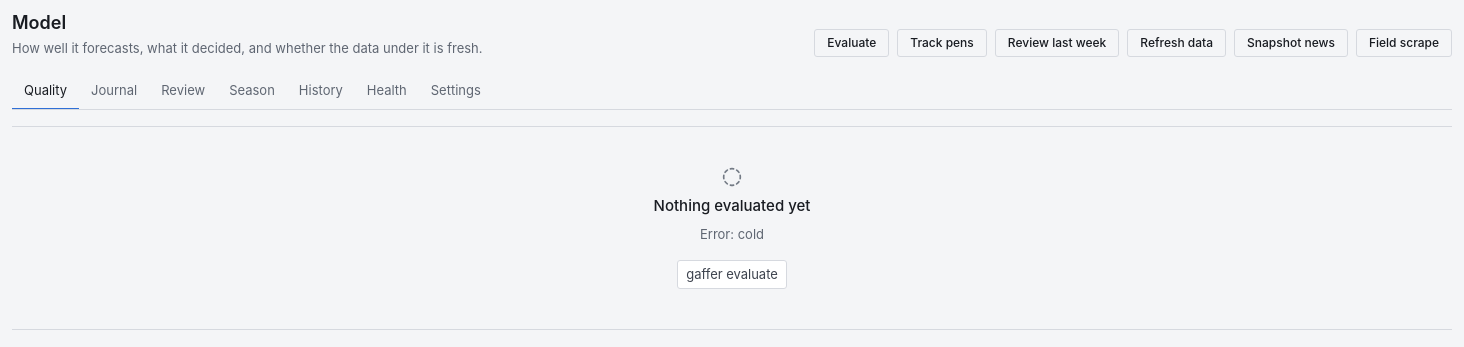
Test: the tab in the URL › Model writes the tab it was clicked to
Click the tab "Health": (387, 92) [355,73,419,110]
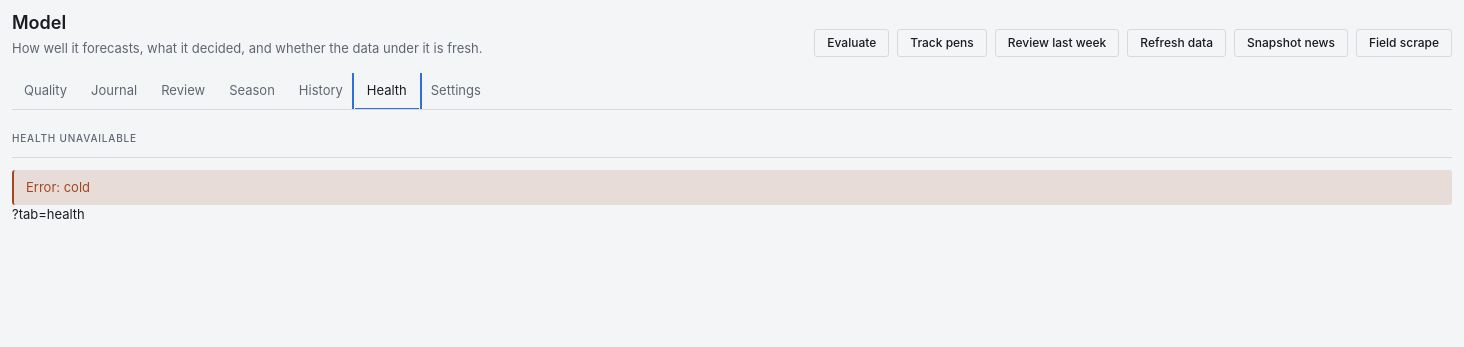
Now the text with test id "search" reads "?tab=health", box [12,206,85,222]
